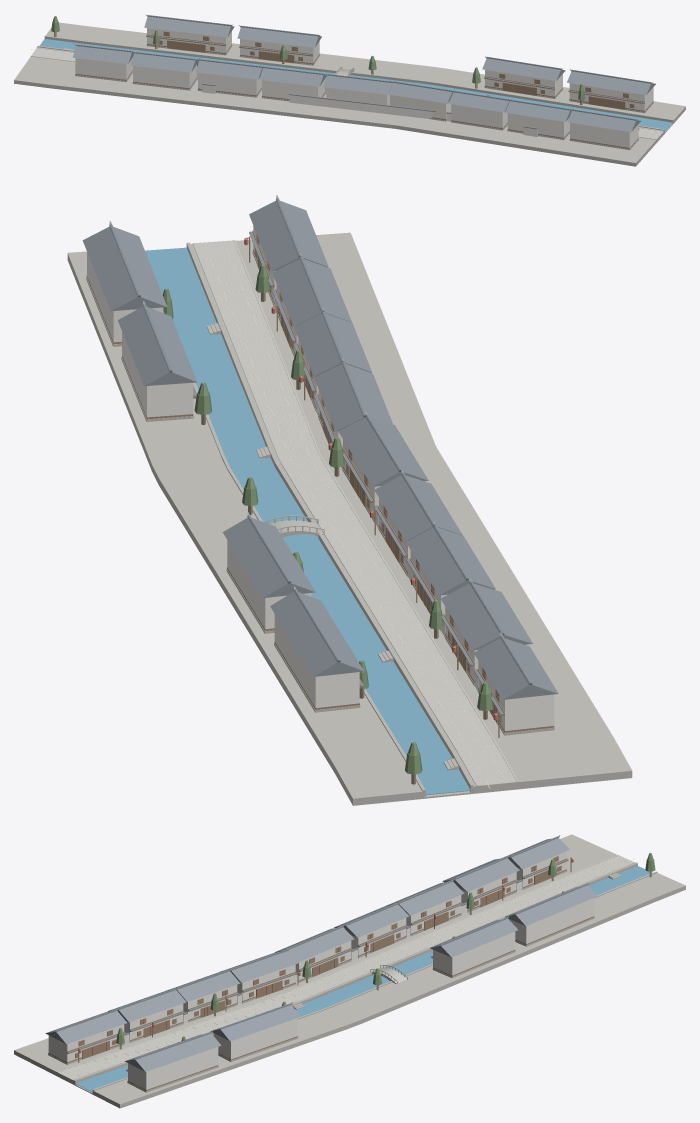
Rendered from shantangjie.glb.
3 renders of one model, top to bottom at view 1: azimuth 30°, elevation 25°; view 2: azimuth 150°, elevation 25°; view 3: azimuth 270°, elevation 25°, orthographic. The views are drawn at different scales.
Parts seen in each view (by area): view 1: stj_stone, stj_tile, stj_wall_white, stj_wood, stj_water, stj_pave, stj_leaf; view 2: stj_stone, stj_tile, stj_pave, stj_water, stj_wall_white, stj_wood, stj_joint, stj_leaf; view 3: stj_stone, stj_tile, stj_wall_white, stj_pave, stj_wood, stj_water, stj_joint, stj_leaf.
Part boxes in pixels (x1=…): stj_stone: x1=14, y1=22, x2=685, y2=166; stj_tile: x1=72, y1=14, x2=655, y2=132; stj_wall_white: x1=75, y1=28, x2=653, y2=147; stj_wood: x1=75, y1=31, x2=653, y2=148; stj_water: x1=39, y1=39, x2=672, y2=132; stj_pave: x1=30, y1=47, x2=663, y2=139; stj_leaf: x1=51, y1=16, x2=585, y2=99; stj_stone: x1=67, y1=232, x2=632, y2=805; stj_tile: x1=82, y1=195, x2=558, y2=714; stj_pave: x1=192, y1=240, x2=518, y2=786; stj_water: x1=145, y1=247, x2=473, y2=795; stj_wall_white: x1=87, y1=226, x2=554, y2=730; stj_wood: x1=86, y1=230, x2=554, y2=737; stj_joint: x1=194, y1=240, x2=514, y2=788; stj_leaf: x1=163, y1=264, x2=493, y2=774; stj_stone: x1=14, y1=834, x2=685, y2=1108; stj_tile: x1=45, y1=835, x2=597, y2=1071; stj_wall_white: x1=48, y1=851, x2=594, y2=1089; stj_pave: x1=57, y1=854, x2=635, y2=1080; stj_wood: x1=48, y1=856, x2=594, y2=1090; stj_water: x1=74, y1=866, x2=652, y2=1092; stj_joint: x1=58, y1=856, x2=634, y2=1079; stj_leaf: x1=116, y1=853, x2=655, y2=1044.
Bounding box in the file's own units: 167 × 10.08 × 176.
